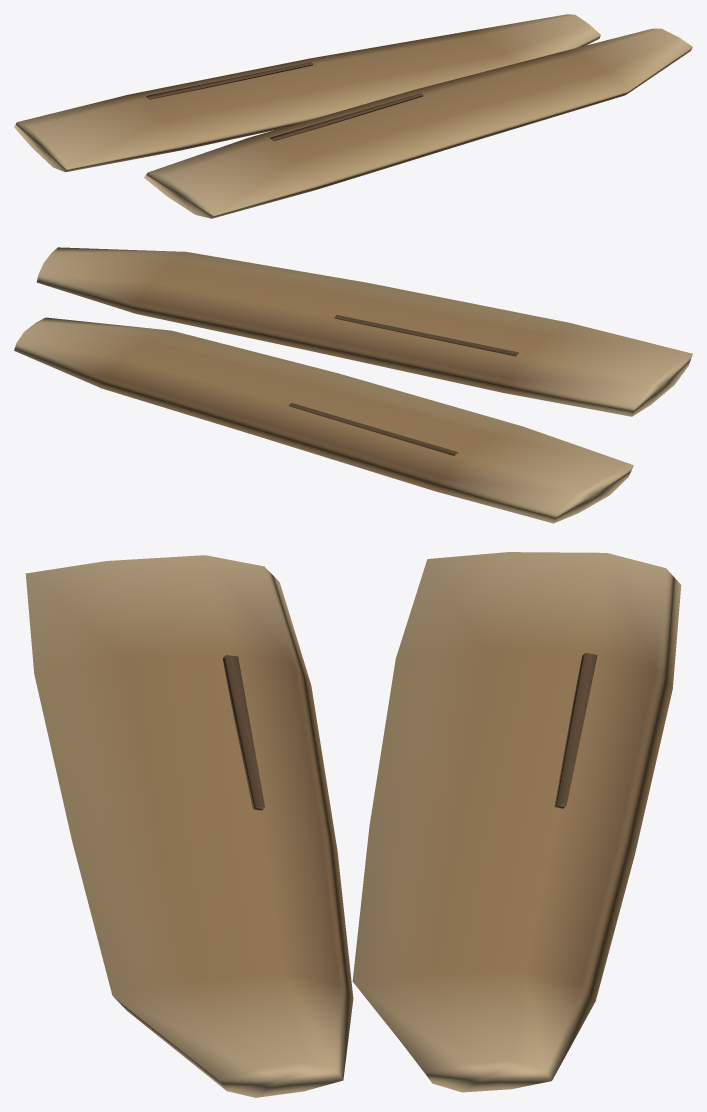
File: beach-debris-planks-v1.glb
3 views of the same model, one above another, from view 1: azimuth 30°, elevation 25°; view 2: azimuth 150°, elevation 25°; view 3: azimuth 270°, elevation 25° (orthographic). The views are drawn at different scales.
Visible parts, largest first — view 1: beach-debris-planks-v1; view 2: beach-debris-planks-v1; view 3: beach-debris-planks-v1.
Boxes of the visible parts, x1,y1,x2,y2 form: beach-debris-planks-v1: (14,14,692,218); beach-debris-planks-v1: (14,247,692,523); beach-debris-planks-v1: (25,552,681,1097).
Bounding box in the file's own units: 1.9 × 0.1374 × 0.9413.
